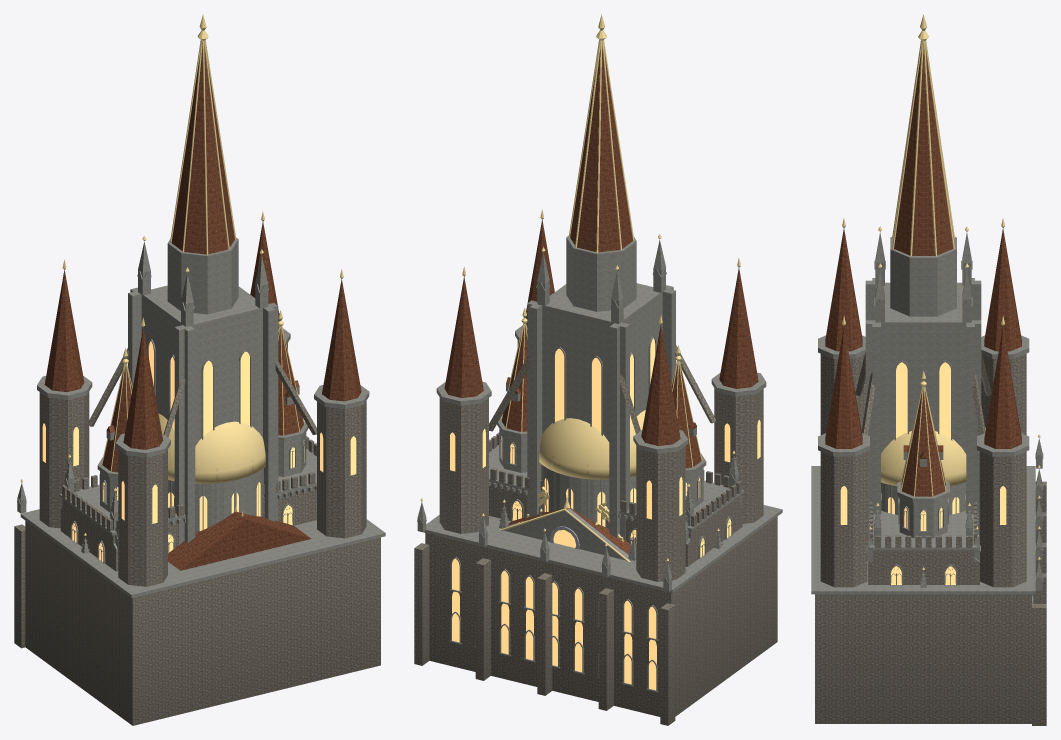
The model's file is palace.glb.
3 views of the same model, side by side, from view 1: azimuth 30°, elevation 25°; view 2: azimuth 150°, elevation 25°; view 3: azimuth 270°, elevation 25° (orthographic).
Parts seen in each view (by area): view 1: palace_dome_b__L0, palace_spire_a__L0, palace_spire_a__L2, palace_dome_b__L2, eternity_gate__L0, eternity_gate__L2, throne_hall__L2, throne_hall__L0, palace_dome_b__L1; view 2: palace_dome_b__L0, palace_spire_a__L0, palace_spire_a__L2, eternity_gate__L0, palace_dome_b__L2, eternity_gate__L2, throne_hall__L0, throne_hall__L2, palace_dome_b__L1; view 3: palace_dome_b__L0, palace_spire_a__L0, palace_spire_a__L2, eternity_gate__L0, palace_dome_b__L2, eternity_gate__L2, palace_dome_b__L1.
Part boxes in pixels (x1,y1,x2,y2): palace_dome_b__L0: (14,211,385,725); palace_spire_a__L0: (14,28,369,648); palace_spire_a__L2: (37,14,366,585); palace_dome_b__L2: (85,282,385,597); eternity_gate__L0: (60,310,316,571); eternity_gate__L2: (59,370,316,571); throne_hall__L2: (181,519,311,570); throne_hall__L0: (168,505,310,570); palace_dome_b__L1: (195,424,265,532); palace_dome_b__L0: (417,210,782,725); palace_spire_a__L0: (414,14,766,725); palace_spire_a__L2: (437,16,765,663); eternity_gate__L0: (489,307,742,566); palace_dome_b__L2: (442,277,718,663); eternity_gate__L2: (489,367,743,549); throne_hall__L0: (499,495,636,561); throne_hall__L2: (504,510,624,559); palace_dome_b__L1: (452,420,654,662); palace_dome_b__L0: (811,218,1046,725); palace_spire_a__L0: (818,15,1046,607); palace_spire_a__L2: (818,14,1029,587); eternity_gate__L0: (866,370,980,587); palace_dome_b__L2: (818,244,1029,513); eternity_gate__L2: (870,390,976,550); palace_dome_b__L1: (881,430,985,512).
Size of the model in its own units: 82.61 by 214 by 65.
19 materials, 17 textured.
